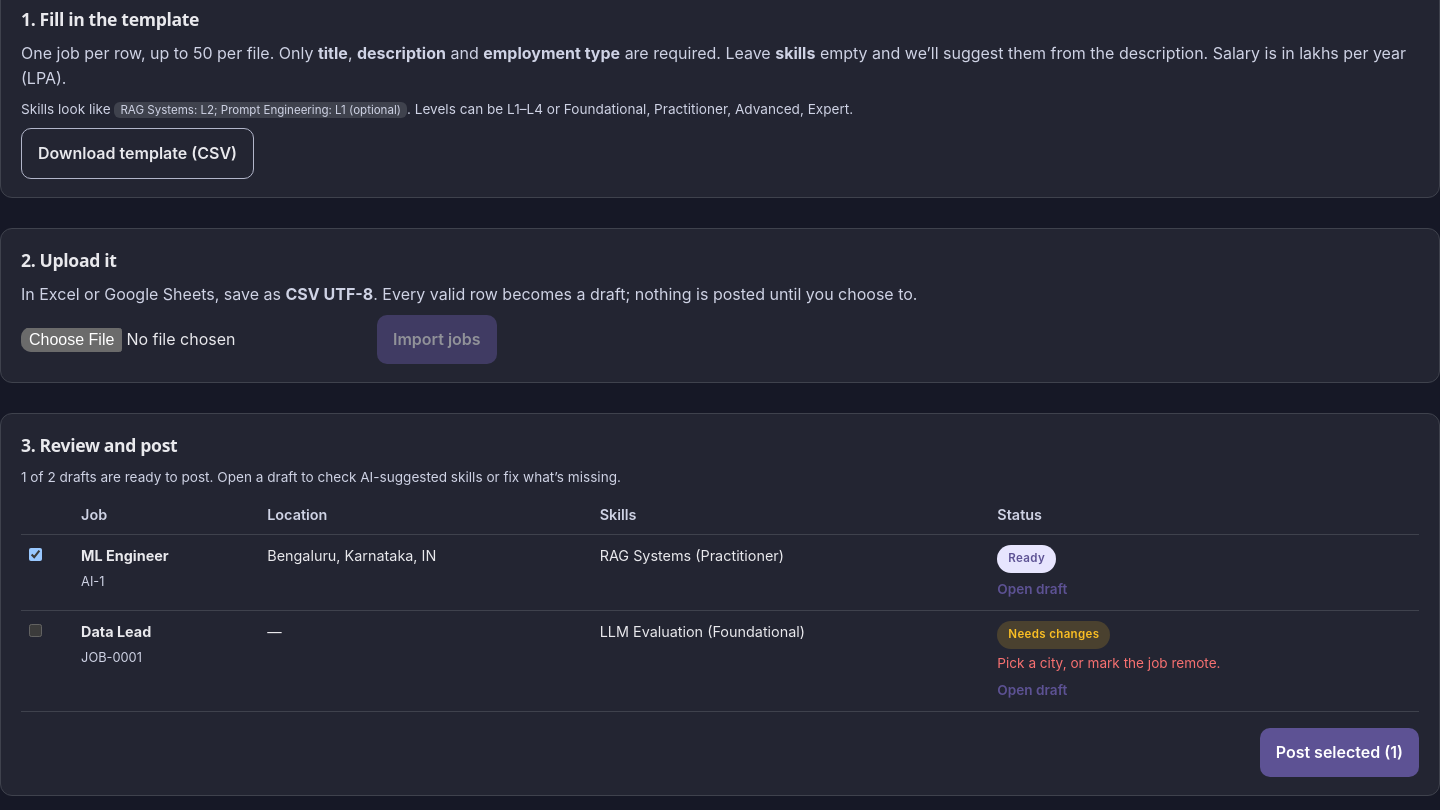
Test: EmployerJobImport › posts the selected ready drafts and refreshes the list
(page scrolled)
Click the button "Post selected (1)".
click(1339, 753)  # box x1=1260 y1=728 x2=1419 y2=777
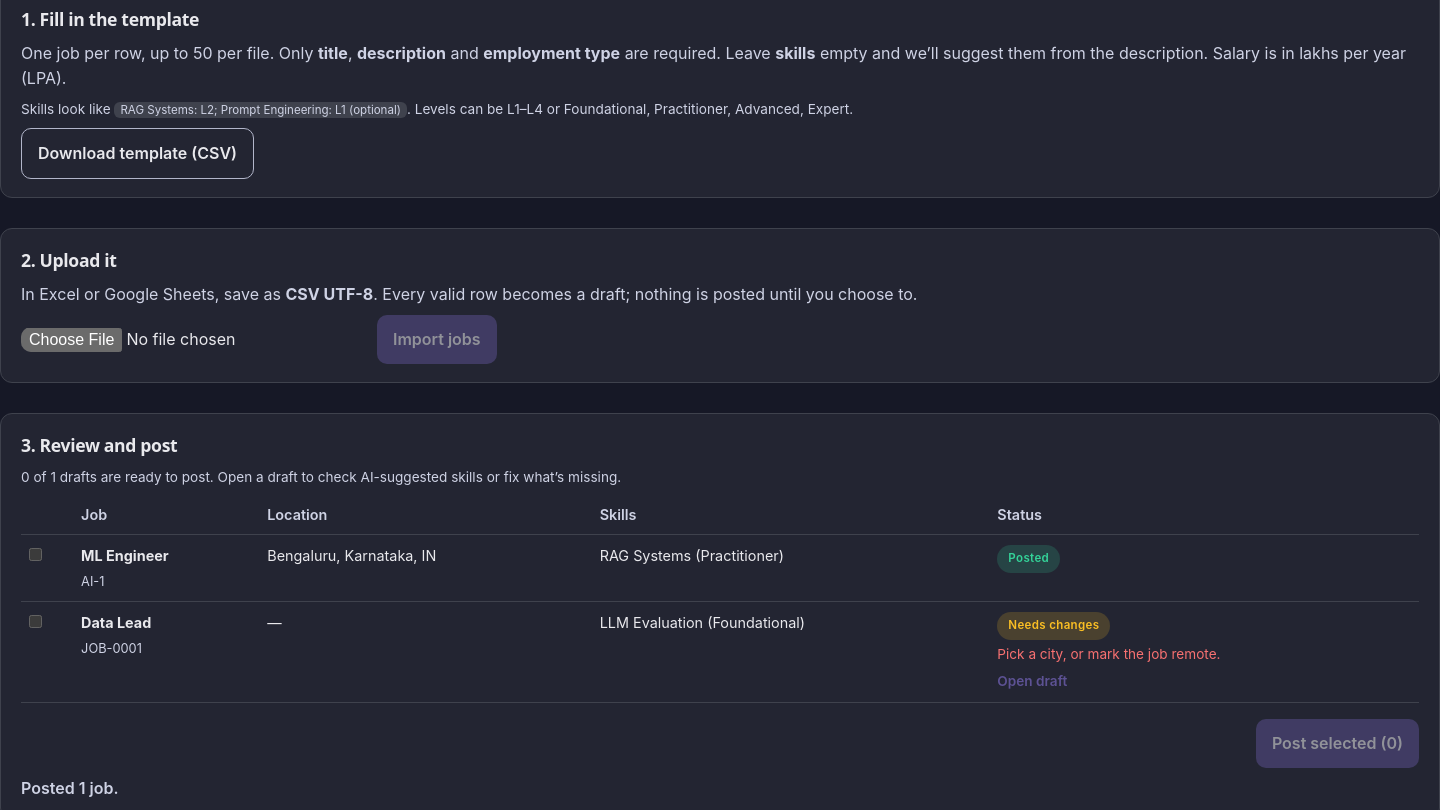
Expected: the text "Posted 1 job." is shown, x1=21 y1=778 x2=118 y2=798
Expected: the text "Posted" is shown, x1=997 y1=545 x2=1060 y2=573
